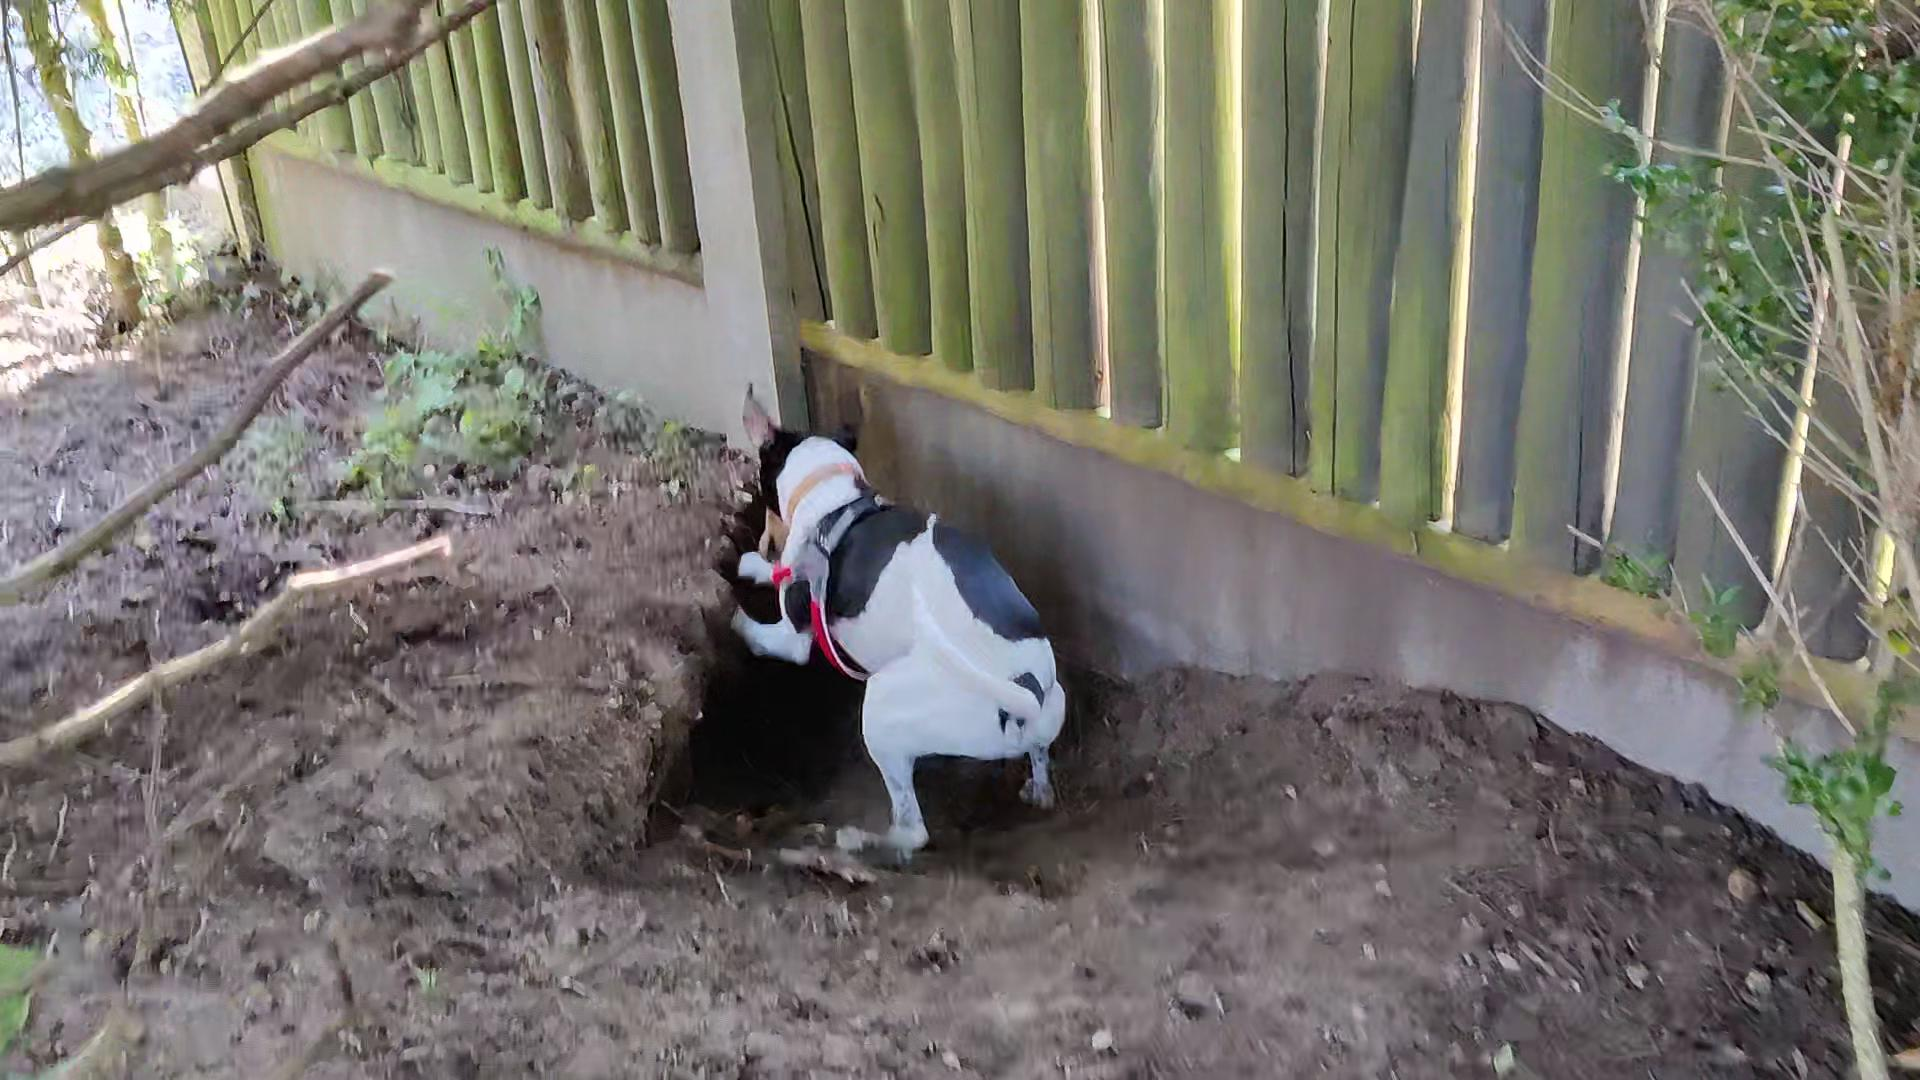Dog: (709, 352, 1095, 876)
